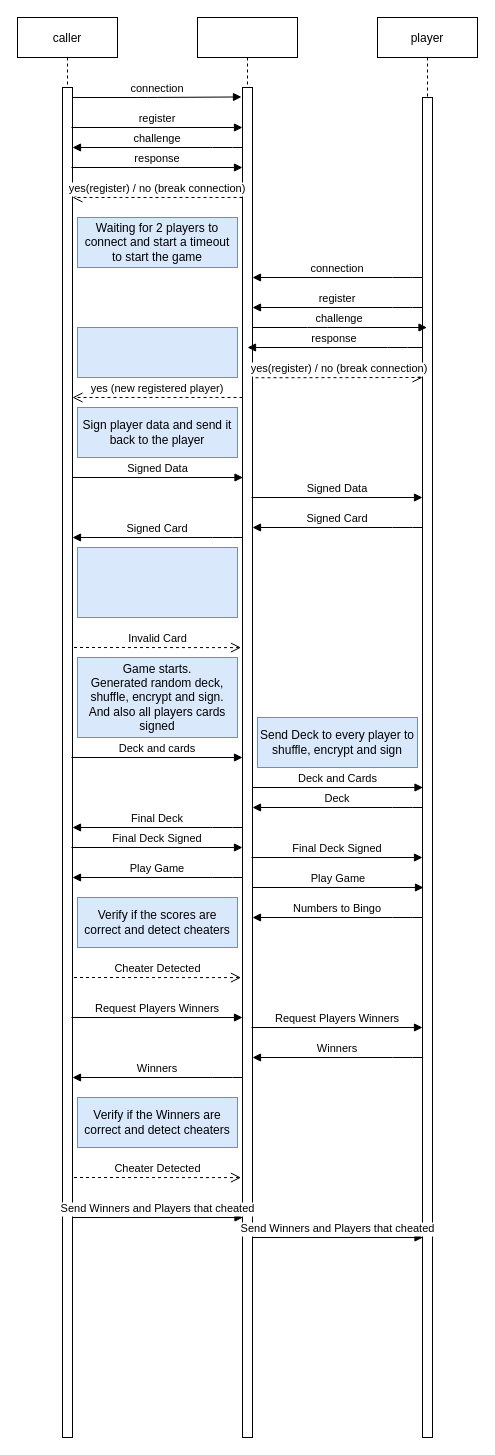
This 495x1455 diagram has some shape labels left out. The shapes that lost their labels are listed below. From the top down, each one's box as (x1, y1, x2, y2) in pixels, then its label:
(76, 326, 238, 378): Registration can be made with PKI or CC
(76, 546, 238, 618): Verification of player's card and signature. If invalid card, break connection
(196, 16, 298, 1438): parea
